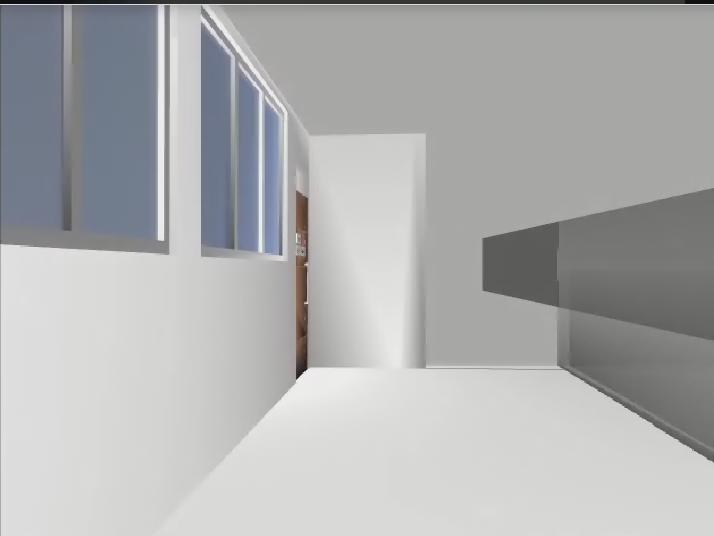door: (296, 189, 308, 380)
